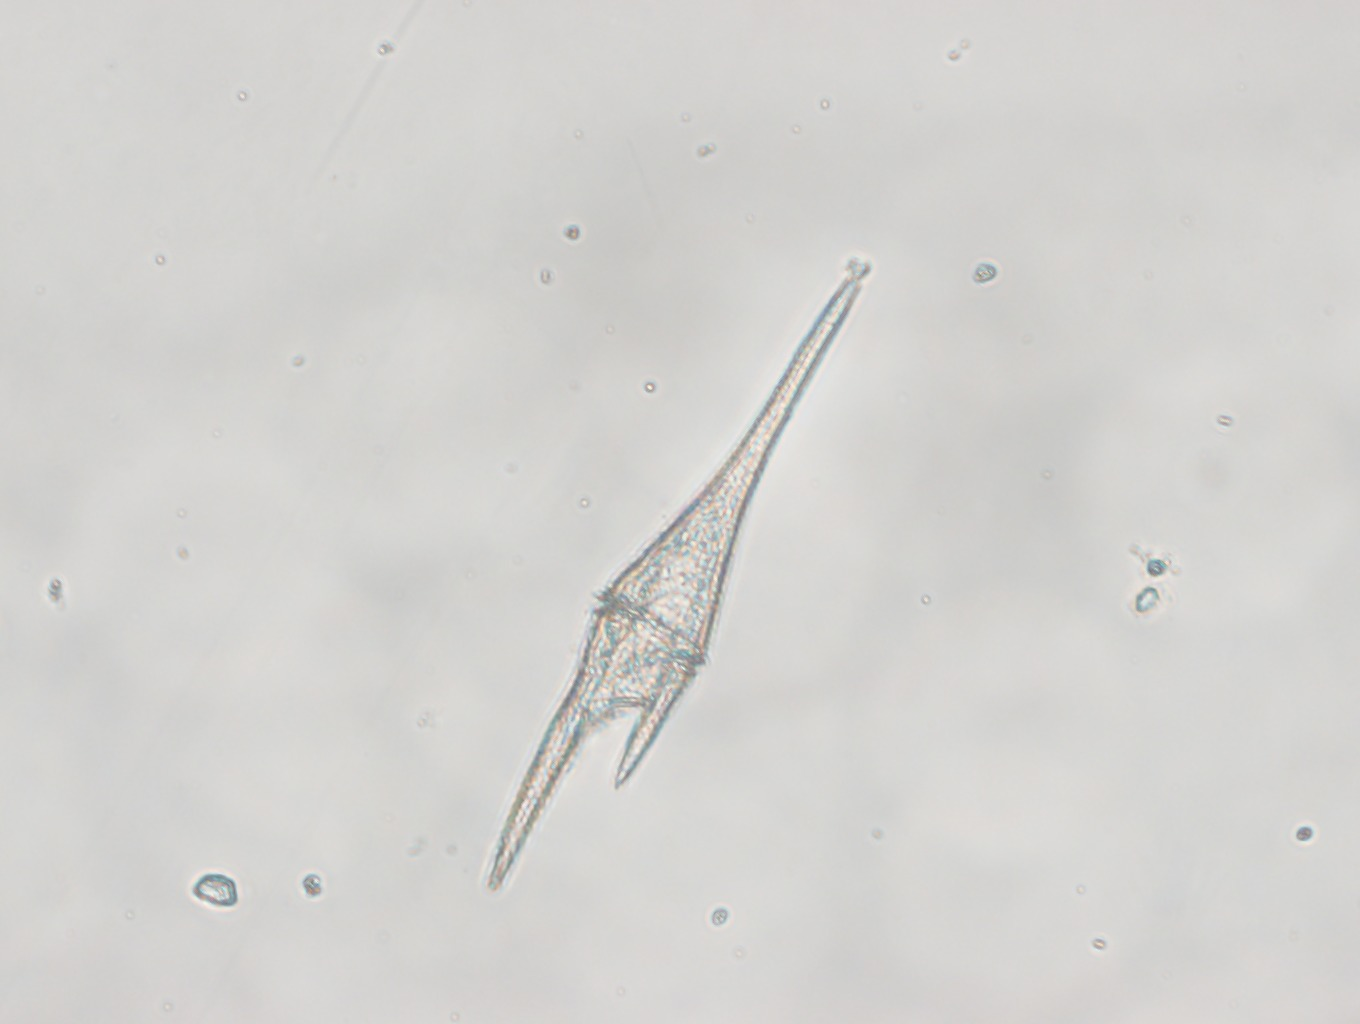ceratium furca: (482, 266, 861, 897)
